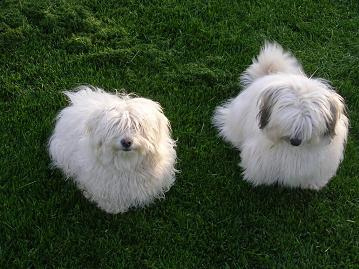dog: (210, 37, 350, 192), (46, 81, 183, 216)
